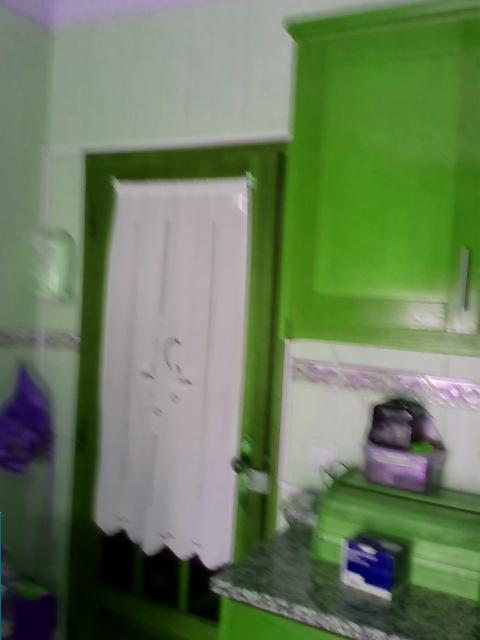closed_door: (67, 140, 280, 638)
